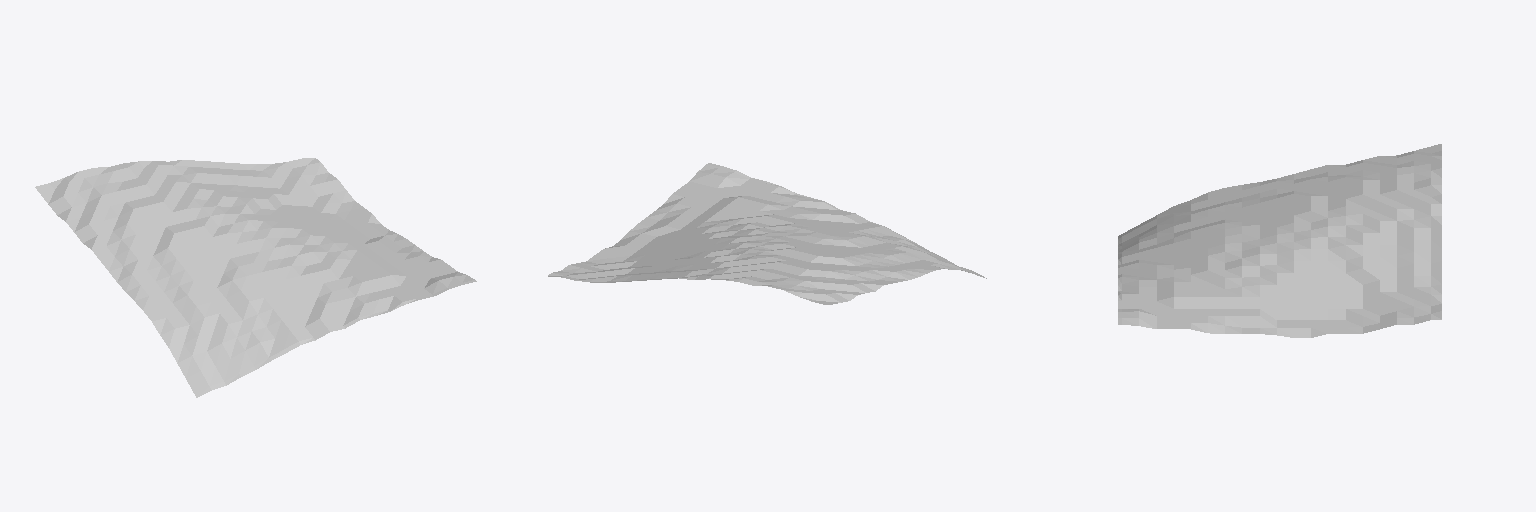
File: terrain_27_-13.obj
The picture shows the model from 3 angles: view 1: azimuth 30°, elevation 25°; view 2: azimuth 150°, elevation 25°; view 3: azimuth 270°, elevation 25°; orthographic projection.
Visible parts, largest first — view 1: terrain_27_-13_Plane.009; view 2: terrain_27_-13_Plane.009; view 3: terrain_27_-13_Plane.009.
Boxes of the visible parts, x1,y1,x2,y2 form: terrain_27_-13_Plane.009: [35, 158, 476, 397]; terrain_27_-13_Plane.009: [548, 163, 986, 304]; terrain_27_-13_Plane.009: [1118, 144, 1441, 337].
Bounding box in the file's own units: 32 × 10.6 × 32.